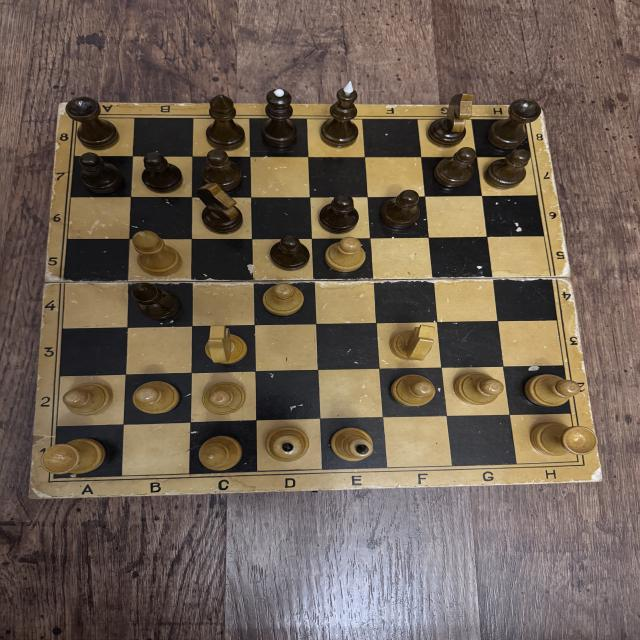black-bishop: (204, 93, 246, 151), (129, 282, 182, 321)
black-king: (319, 80, 363, 147)
black-knight: (426, 93, 476, 146), (196, 184, 245, 234)
black-pawn: (78, 152, 126, 195), (485, 147, 531, 190), (435, 146, 479, 188), (201, 150, 244, 191), (381, 189, 424, 230), (140, 152, 183, 192), (317, 195, 360, 233), (268, 233, 312, 270)
black-queen: (259, 86, 301, 153)
black-rook: (64, 95, 121, 151), (488, 99, 544, 150)
white-bishop: (131, 228, 183, 278), (197, 433, 244, 472)
white-king: (331, 426, 374, 463)
white-knight: (200, 325, 253, 366), (388, 325, 438, 361)
white-pawn: (524, 372, 579, 408), (62, 381, 114, 417), (454, 371, 504, 407), (323, 236, 367, 274), (389, 373, 436, 407), (202, 381, 246, 416), (132, 382, 179, 414), (262, 284, 306, 316)
white-queen: (264, 426, 309, 463)
white-rook: (37, 436, 106, 477), (530, 420, 599, 460)
